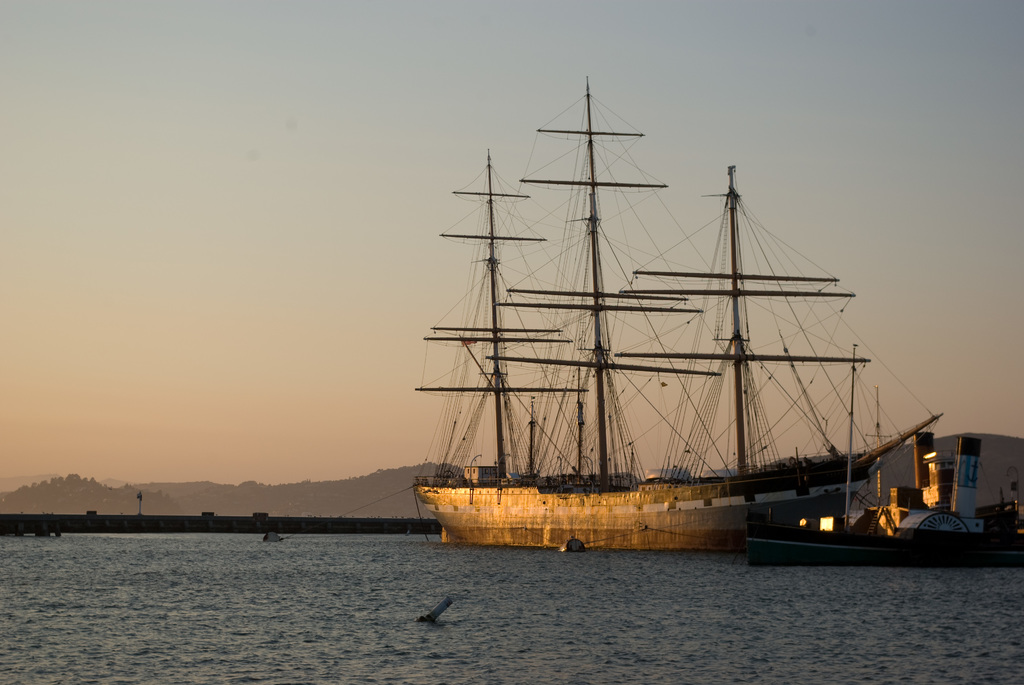boat: (382, 58, 947, 574)
